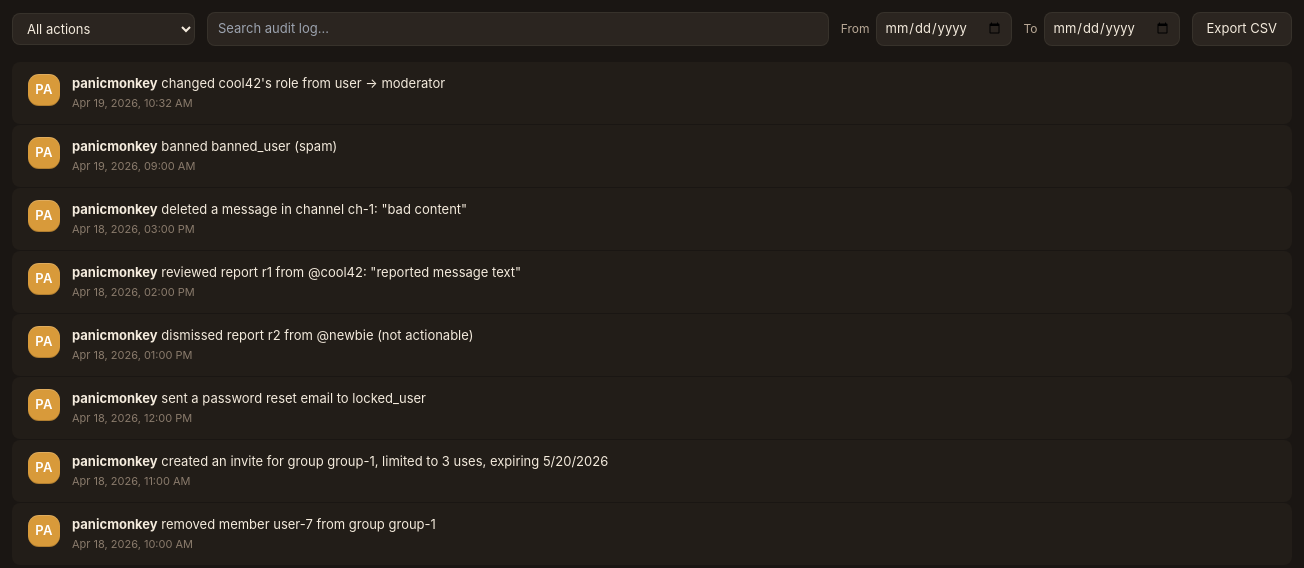
Test case: AuditLogList — filtering › filters entries by action type
This screenshot has width=1304, height=568.
Select "Ban" in the dropdown with test id "audit-filter-action". click: (104, 29)
box: [12,13,195,45]
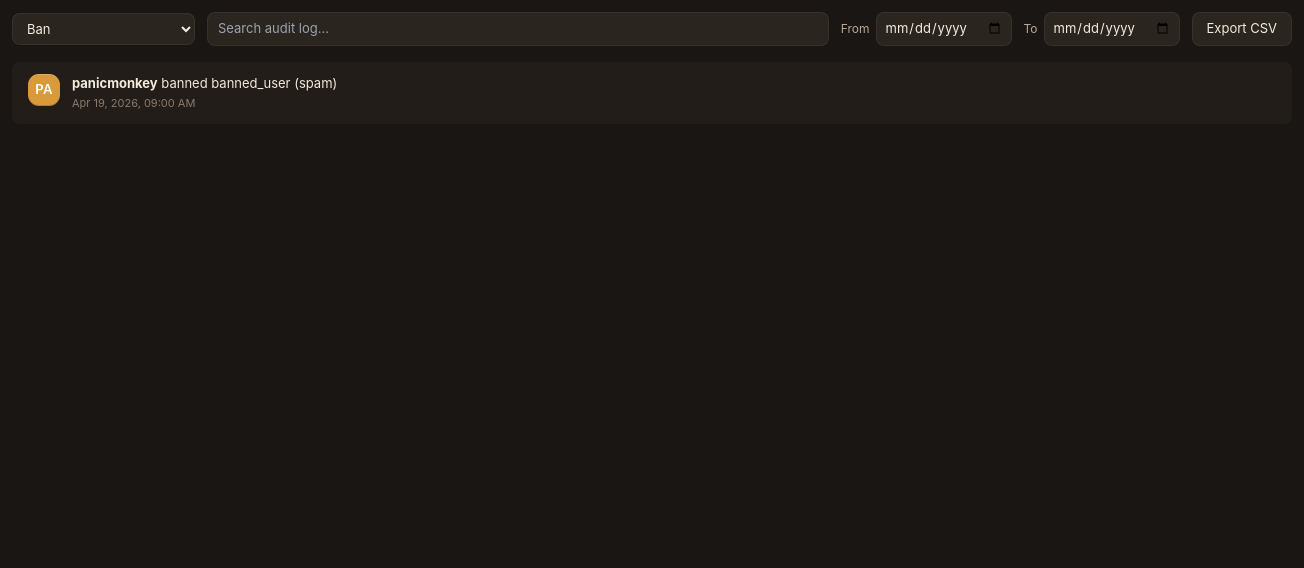
Check: the number of elements with class "audit-entry" is 1, box [12,62,1292,124]
